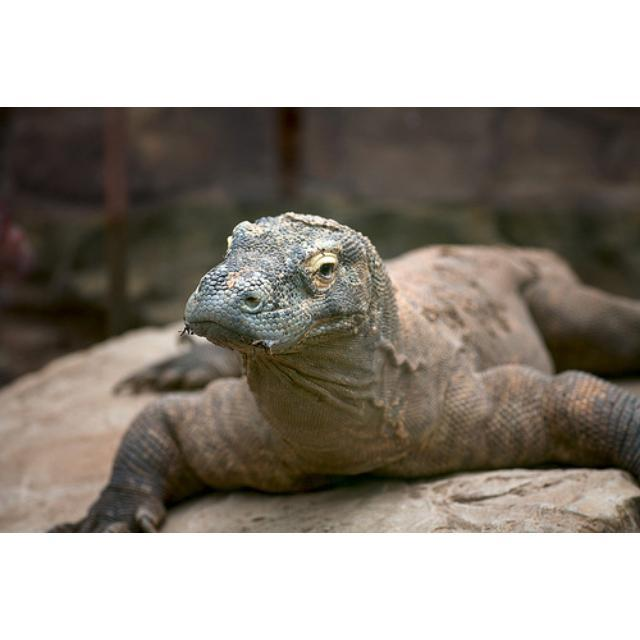KomodoDragon: (46, 212, 634, 530)
